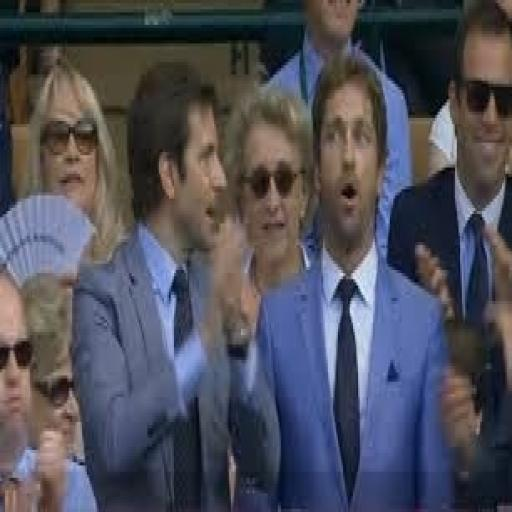clapping: (8, 81, 298, 505)
